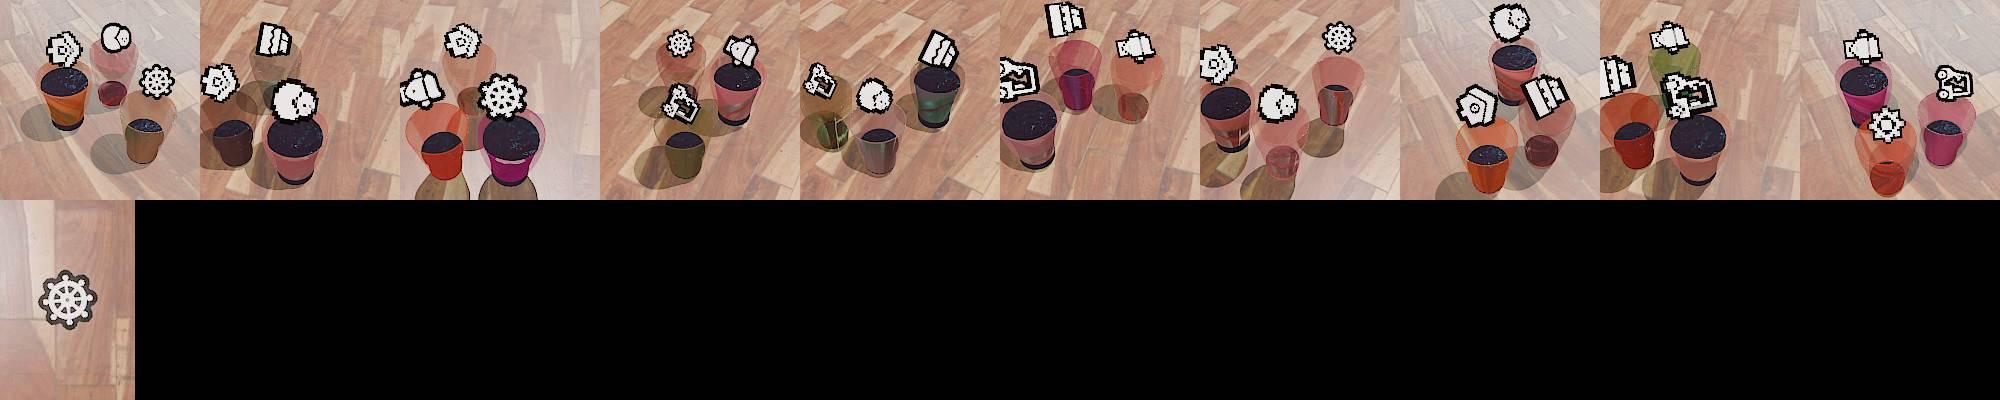icon: (36, 269, 97, 330), (1657, 69, 1718, 120), (1520, 71, 1571, 121), (476, 73, 528, 121), (1455, 83, 1503, 129), (270, 79, 320, 122), (399, 66, 446, 110), (997, 56, 1040, 102), (658, 82, 702, 124), (1198, 42, 1239, 87), (1258, 83, 1300, 125), (1489, 3, 1532, 43), (1598, 55, 1636, 101), (918, 29, 959, 71), (1043, 1, 1087, 41), (199, 62, 240, 103), (1934, 64, 1974, 103), (1648, 19, 1691, 55), (443, 23, 483, 60), (856, 76, 894, 115), (801, 61, 839, 99), (46, 31, 84, 69), (1867, 106, 1907, 143), (136, 64, 176, 101), (1115, 28, 1157, 61), (723, 33, 760, 70), (1842, 29, 1883, 62), (256, 22, 293, 57), (1320, 20, 1356, 55), (665, 28, 696, 59), (101, 23, 131, 54)
